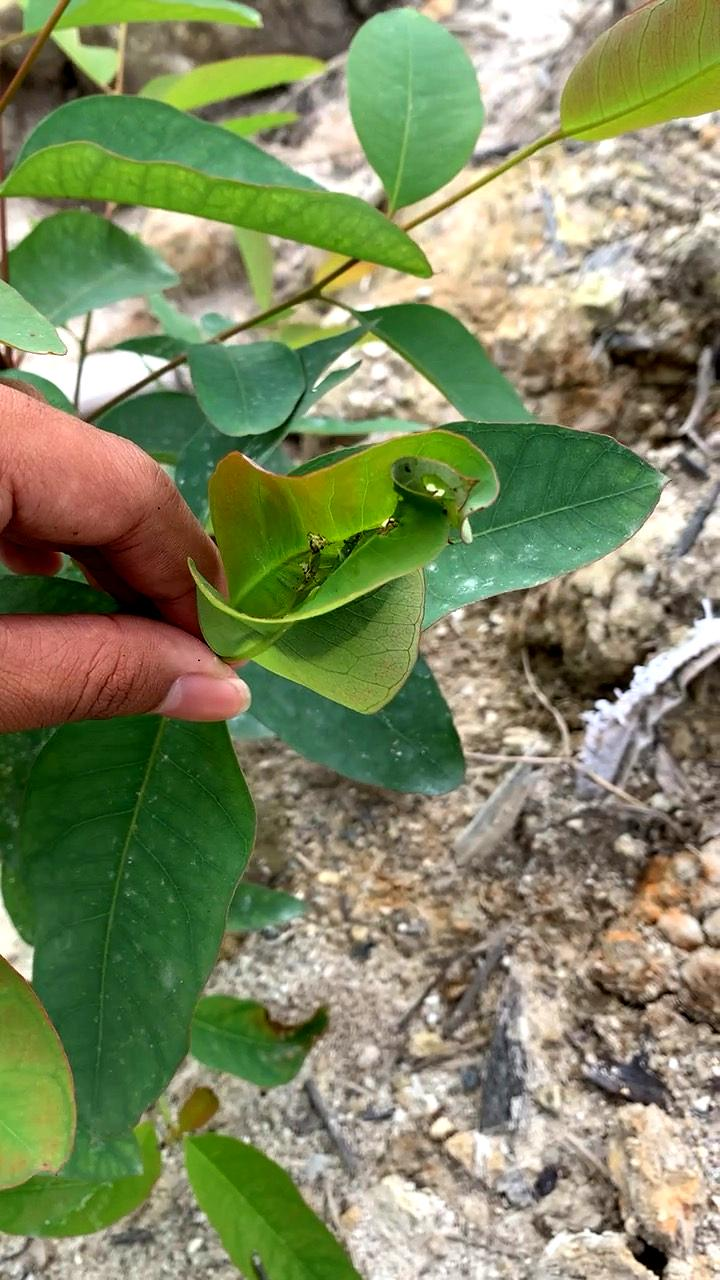Leaf Roller - Leaf: (165, 411, 518, 728)
